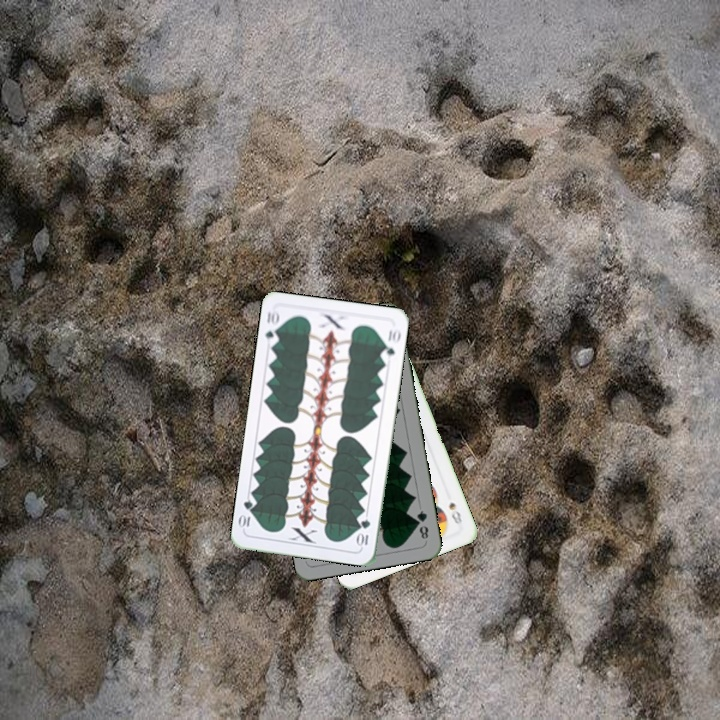G10: (261, 306, 282, 347), (354, 515, 373, 548)
G8: (412, 506, 431, 542)
S8: (445, 498, 464, 526)
